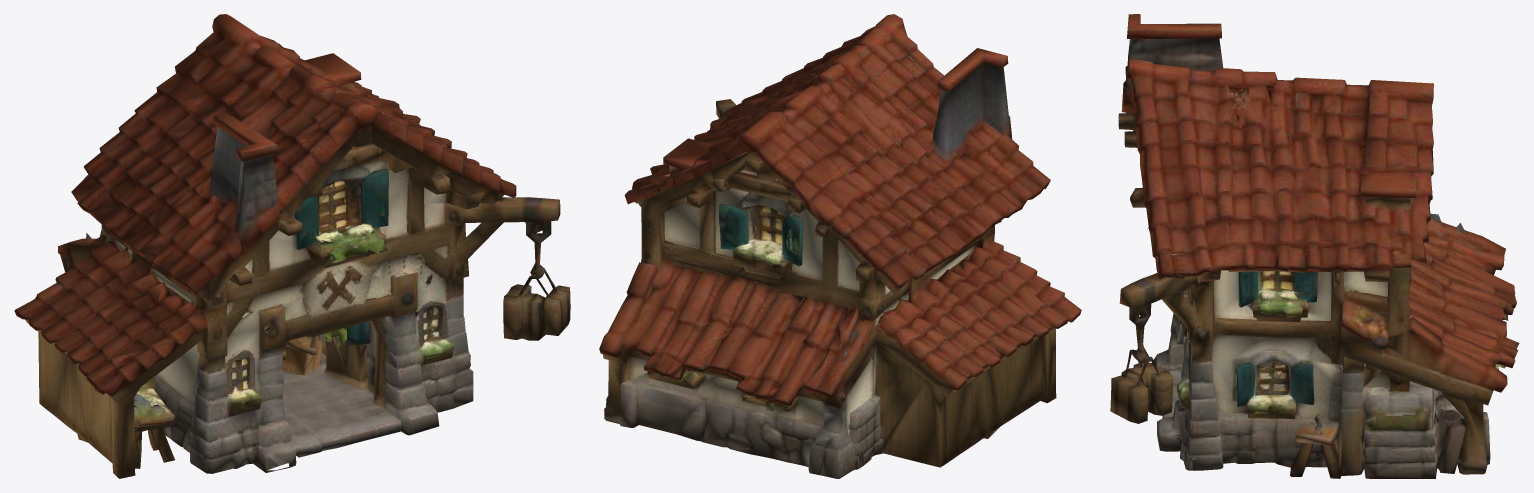
3 views of the same model, side by side, from view 1: azimuth 30°, elevation 25°; view 2: azimuth 150°, elevation 25°; view 3: azimuth 270°, elevation 25° (orthographic). The views are drawn at different scales.
Visible parts, largest first — view 1: alpine__builders_guild__neural_lod, alpine__builders_guild__neural_pendulum; view 2: alpine__builders_guild__neural_lod; view 3: alpine__builders_guild__neural_lod, alpine__builders_guild__neural_pendulum.
Part boxes in pixels (x1,y1,x2,y2): alpine__builders_guild__neural_lod: [14, 14, 560, 478]; alpine__builders_guild__neural_pendulum: [503, 229, 570, 340]; alpine__builders_guild__neural_lod: [599, 14, 1081, 478]; alpine__builders_guild__neural_lod: [1118, 14, 1519, 478]; alpine__builders_guild__neural_pendulum: [1110, 311, 1168, 423].
Bounding box in the file's own units: 1 × 0.7663 × 0.8044.
Materials: 1 (1 with a texture image).
